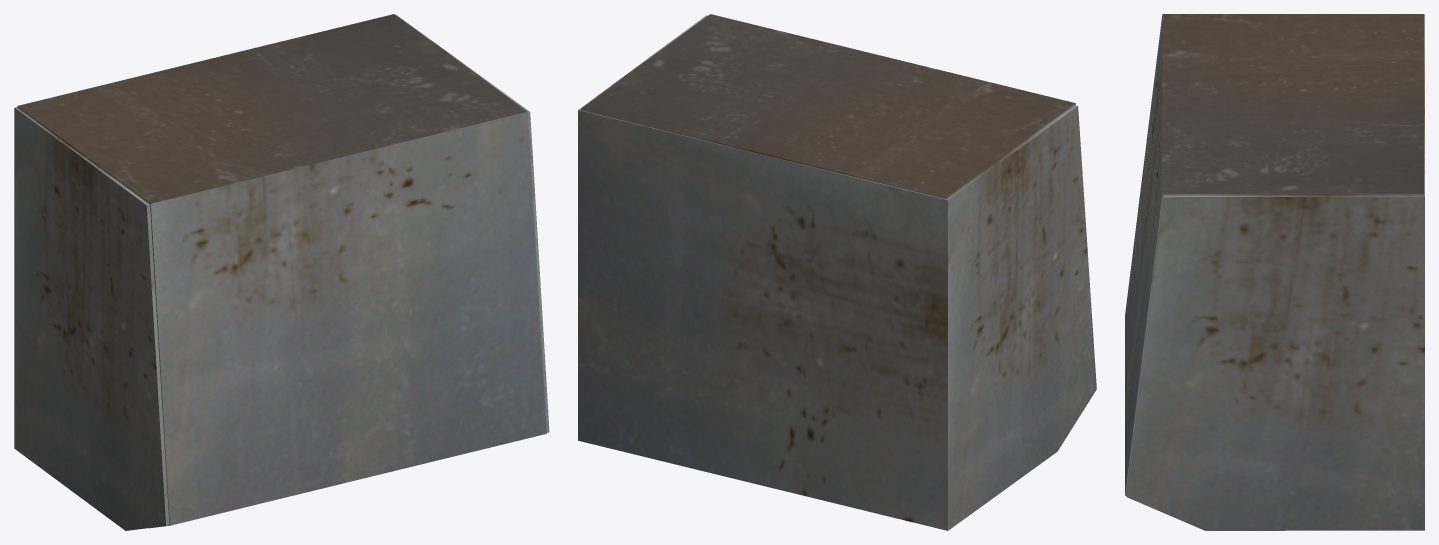
The model's file is pub_sink04.fbx.
The picture shows the model from 3 angles, left to right: view 1: azimuth 30°, elevation 25°; view 2: azimuth 150°, elevation 25°; view 3: azimuth 270°, elevation 25°; orthographic projection. The views are drawn at different scales.
Parts seen in each view (by area): view 1: pub_sink04; view 2: pub_sink04; view 3: pub_sink04.
Boxes of the visible parts, left/top/right/bottom form: pub_sink04: left=14, top=14, right=549, bottom=530; pub_sink04: left=578, top=14, right=1096, bottom=530; pub_sink04: left=1125, top=14, right=1424, bottom=530.
Bounding box in the file's own units: 97.64 × 83.34 × 67.57.
